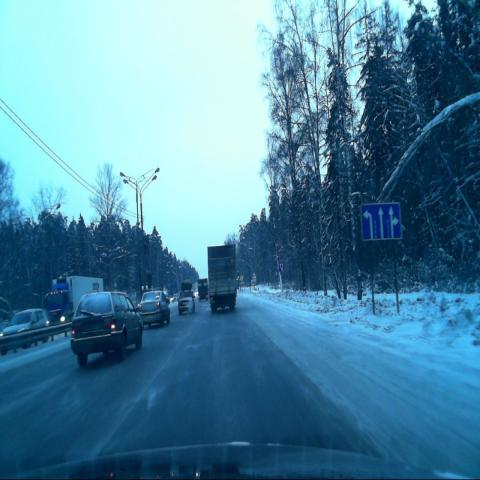5_15_1: (360, 203, 402, 240)
